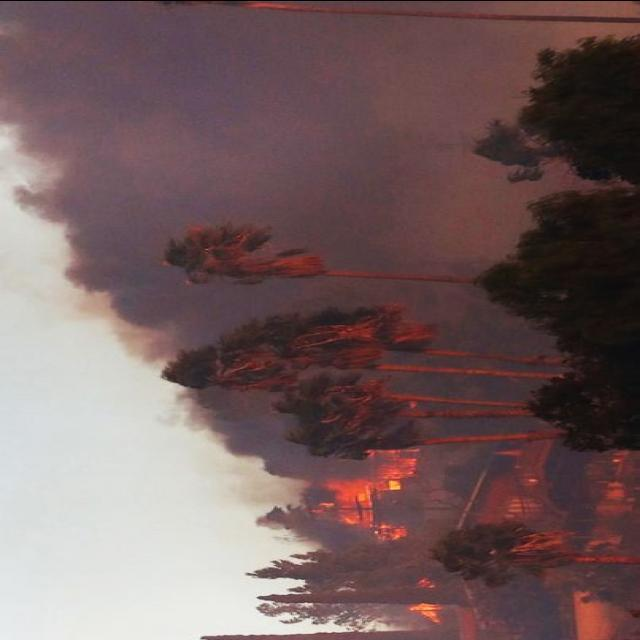Fire: (312, 444, 418, 540), (408, 574, 443, 624)
